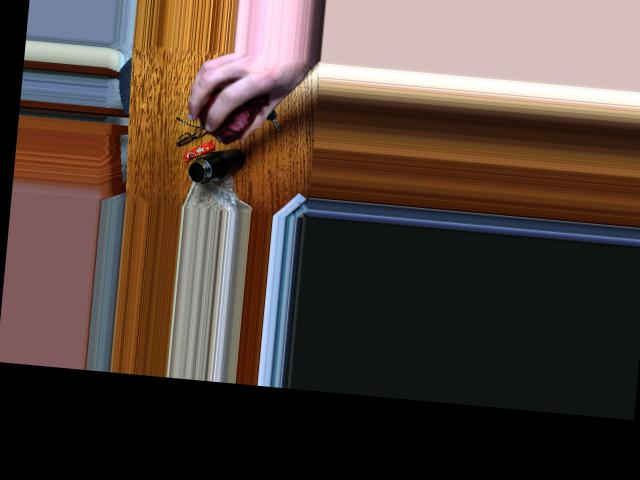onion: (195, 87, 253, 141)
